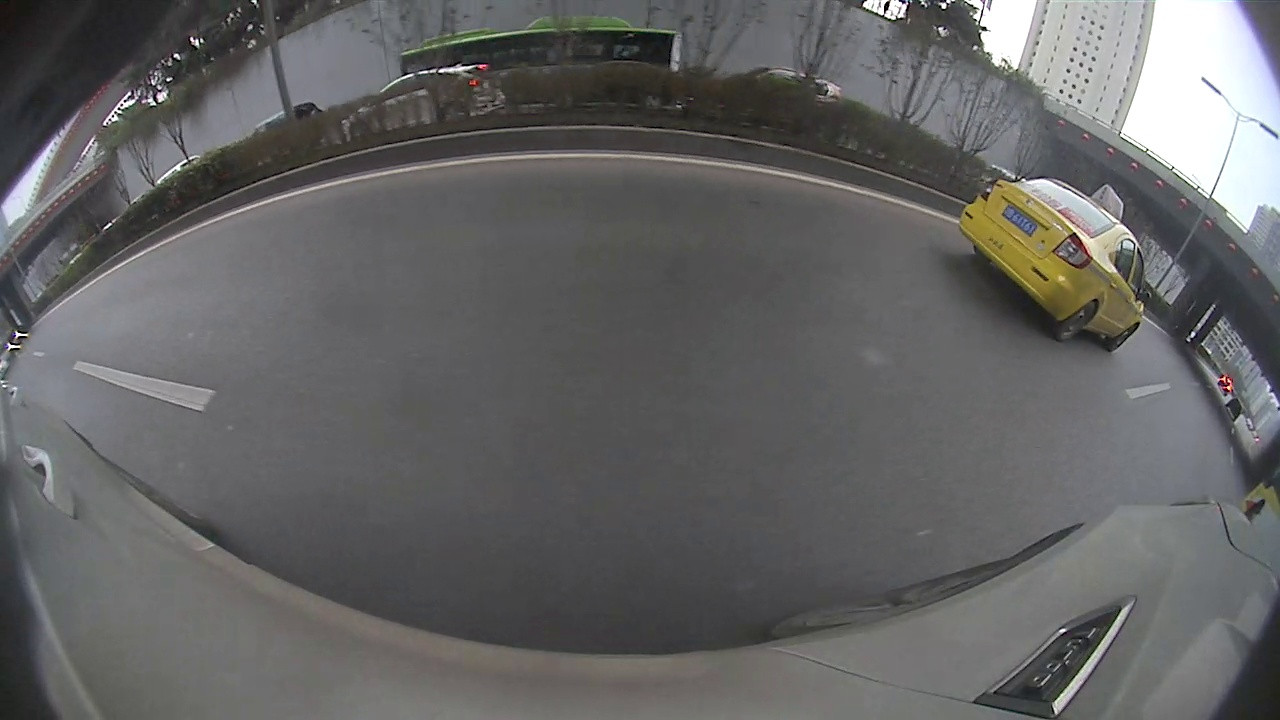car: (957, 177, 1143, 351)
front: (1112, 322, 1137, 352)
rear: (1056, 301, 1095, 341)
